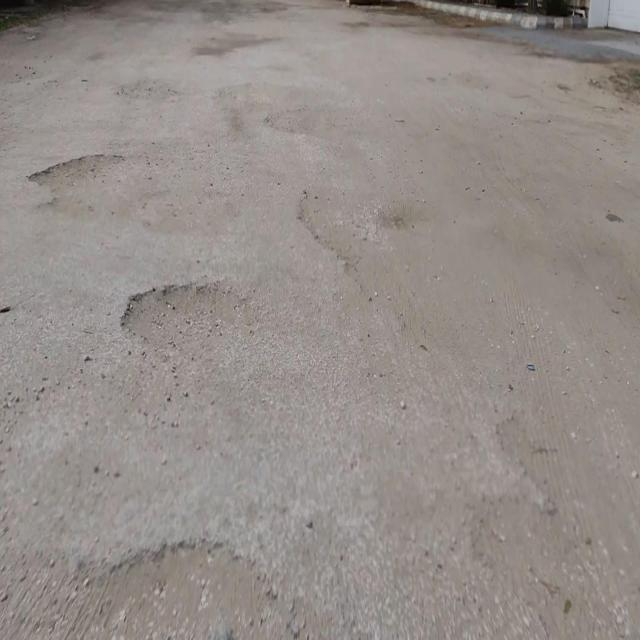Potholes: (91, 534, 268, 639), (119, 279, 255, 356), (23, 152, 126, 191)
